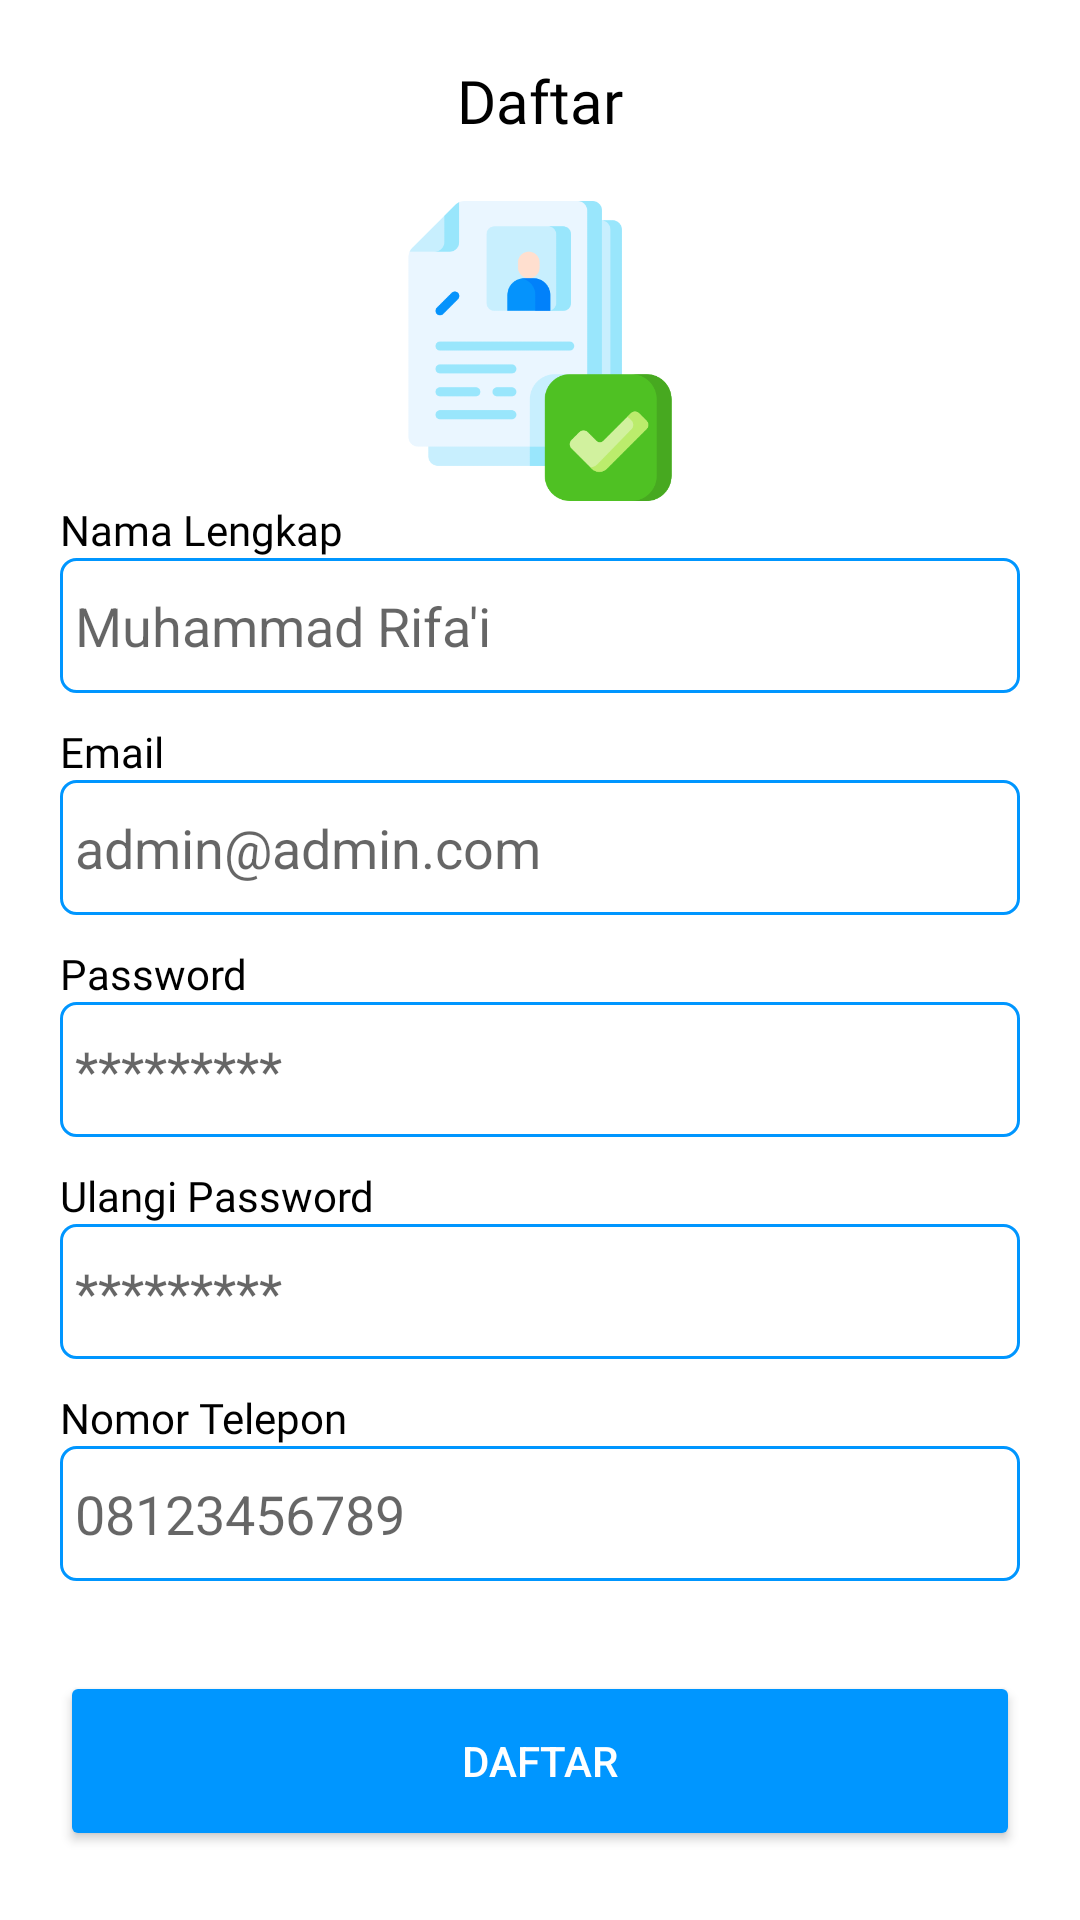

Locate icon controls on the screen. Image size 1080×1920, boxes as (x1, y1, x2, y2).
registered: (408, 201, 672, 501)
